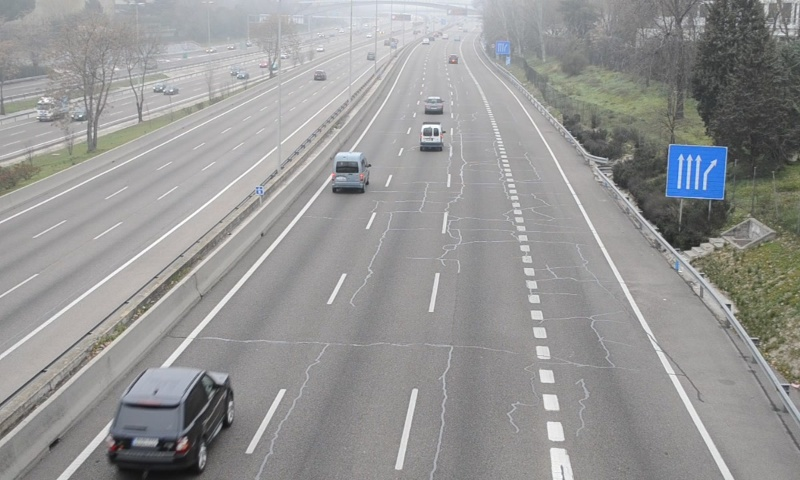car: (108, 366, 235, 474), (424, 96, 444, 114)
van: (332, 151, 370, 189), (419, 120, 445, 152)
